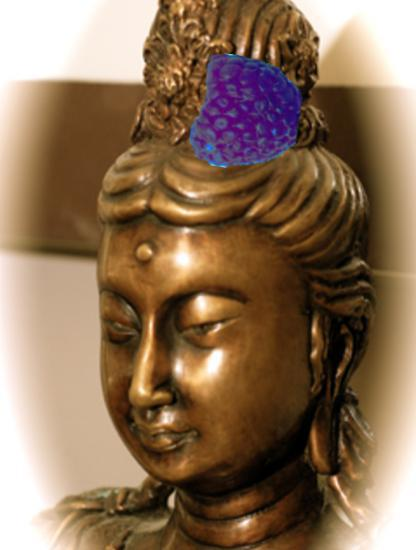Raspberry: (190, 57, 304, 171)
